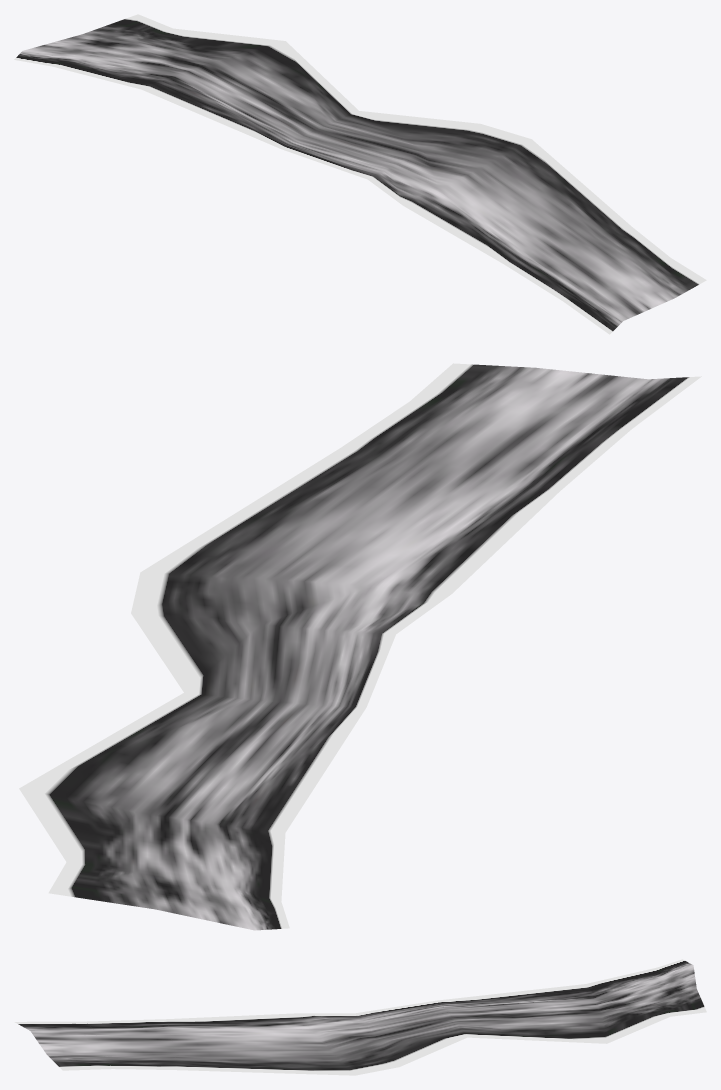
The model's file is pubuA.FBX.
The picture shows the model from 3 angles, top to bottom: view 1: azimuth 30°, elevation 25°; view 2: azimuth 150°, elevation 25°; view 3: azimuth 270°, elevation 25°; orthographic projection. The views are drawn at different scales.
Parts seen in each view (by area): view 1: Plane006; view 2: Plane006; view 3: Plane006.
Boxes of the visible parts, x1,y1,x2,y2 form: Plane006: (14,14,706,334); Plane006: (19,363,701,930); Plane006: (14,959,706,1075).
Bounding box in the file's own units: 12.08 × 8.88e-15 × 30.4.
